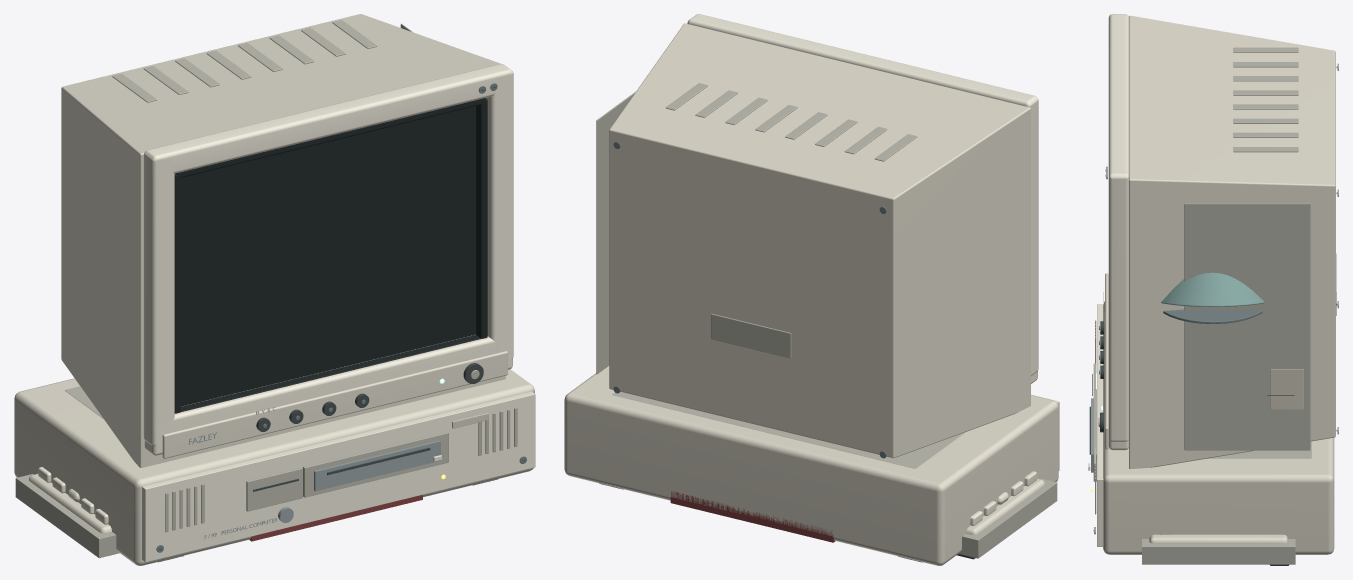
Rendered from hero-props.glb.
3 renders of one model, left to right at view 1: azimuth 30°, elevation 25°; view 2: azimuth 150°, elevation 25°; view 3: azimuth 270°, elevation 25°, orthographic. The views are drawn at different scales.
Visible parts, largest first — view 1: CRT / CRT inner recess, CRT / Aged ivory ABS, CRT / Sun-worn ivory, TOWER / Sun-worn ivory, horizontal PC chassis, TOWER / Recessed beige, CRT / Recessed beige, TOWER / Pewter gray plastic, KEYBOARD / Recessed beige, KEYBOARD / Aged ivory ABS, NOTEBOOK / Recessed oxblood, CRT / Charcoal rubber; view 2: CRT / Aged ivory ABS, horizontal PC chassis, CRT / Recessed beige, CRT / Sun-worn ivory, KEYBOARD / Recessed beige, NOTEBOOK / Recessed oxblood, KEYBOARD / Aged ivory ABS; view 3: CRT / Aged ivory ABS, CRT / Recessed beige, horizontal PC chassis, CRT / Sun-worn ivory, KEYBOARD / Recessed beige, tapered shade, TOWER / Sun-worn ivory, monitor service decal, KEYBOARD / Aged ivory ABS, shade rim, TOWER / Recessed beige, CRT / Charcoal rubber.
Boxes of the visible parts, left/top/right/bottom form: CRT / CRT inner recess: left=174, top=98, right=487, bottom=413; CRT / Aged ivory ABS: left=61, top=14, right=507, bottom=467; CRT / Sun-worn ivory: left=143, top=64, right=513, bottom=455; TOWER / Sun-worn ivory: left=142, top=391, right=535, bottom=562; horizontal PC chassis: left=14, top=369, right=534, bottom=565; TOWER / Recessed beige: left=165, top=407, right=517, bottom=532; CRT / Recessed beige: left=64, top=20, right=479, bottom=418; TOWER / Pewter gray plastic: left=204, top=440, right=440, bottom=538; KEYBOARD / Recessed beige: left=15, top=474, right=119, bottom=558; KEYBOARD / Aged ivory ABS: left=29, top=473, right=111, bottom=533; NOTEBOOK / Recessed oxblood: left=249, top=495, right=422, bottom=541; CRT / Charcoal rubber: left=256, top=87, right=496, bottom=431; CRT / Aged ivory ABS: left=609, top=23, right=1030, bottom=458; horizontal PC chassis: left=564, top=366, right=1058, bottom=565; CRT / Recessed beige: left=596, top=83, right=966, bottom=468; CRT / Sun-worn ivory: left=687, top=14, right=1038, bottom=383; KEYBOARD / Recessed beige: left=959, top=478, right=1057, bottom=558; NOTEBOOK / Recessed oxblood: left=670, top=491, right=835, bottom=542; KEYBOARD / Aged ivory ABS: left=966, top=478, right=1044, bottom=534; CRT / Aged ivory ABS: left=1105, top=15, right=1335, bottom=468; CRT / Recessed beige: left=1098, top=47, right=1336, bottom=458; horizontal PC chassis: left=1103, top=301, right=1334, bottom=554; CRT / Sun-worn ivory: left=1108, top=14, right=1129, bottom=450; KEYBOARD / Recessed beige: left=1142, top=534, right=1295, bottom=564; tapered shade: left=1161, top=272, right=1264, bottom=306; TOWER / Sun-worn ivory: left=1088, top=304, right=1103, bottom=546; monitor service decal: left=1270, top=369, right=1303, bottom=409; KEYBOARD / Aged ivory ABS: left=1149, top=534, right=1287, bottom=543; shade rim: left=1163, top=309, right=1262, bottom=323; TOWER / Recessed beige: left=1093, top=320, right=1096, bottom=514; CRT / Charcoal rubber: left=1100, top=66, right=1337, bottom=432.
Size of the model in its own units: 3.04 by 2.75 by 1.65.
